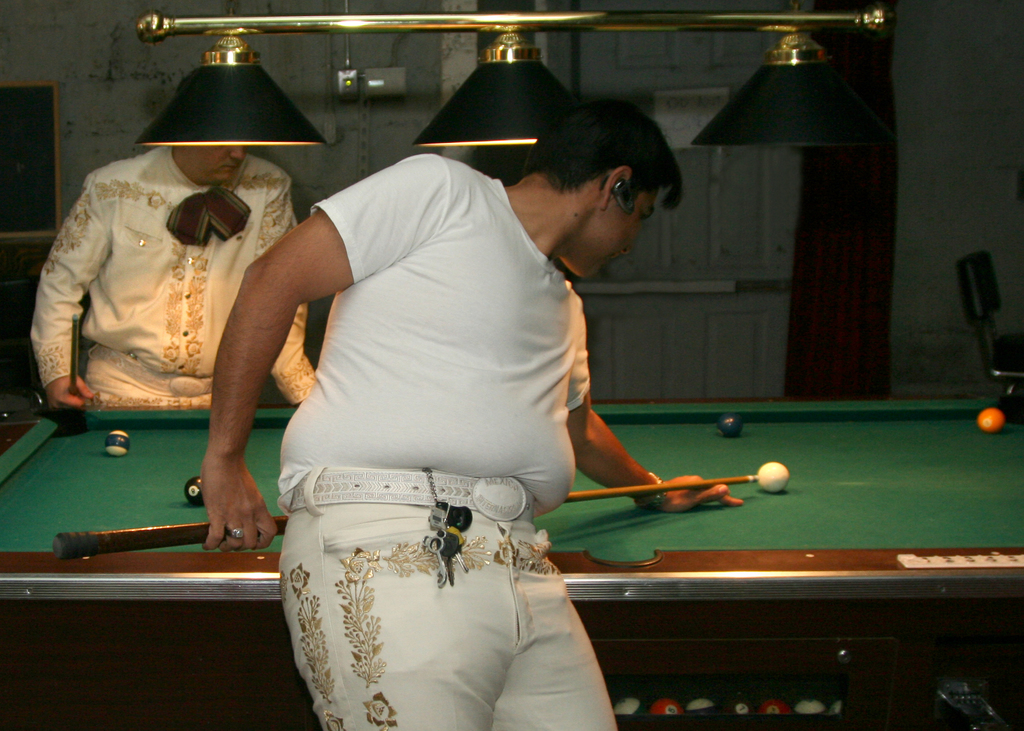Ball: (755, 463, 792, 493), (975, 410, 1004, 434), (104, 432, 132, 456), (719, 415, 744, 434), (186, 481, 204, 506)
